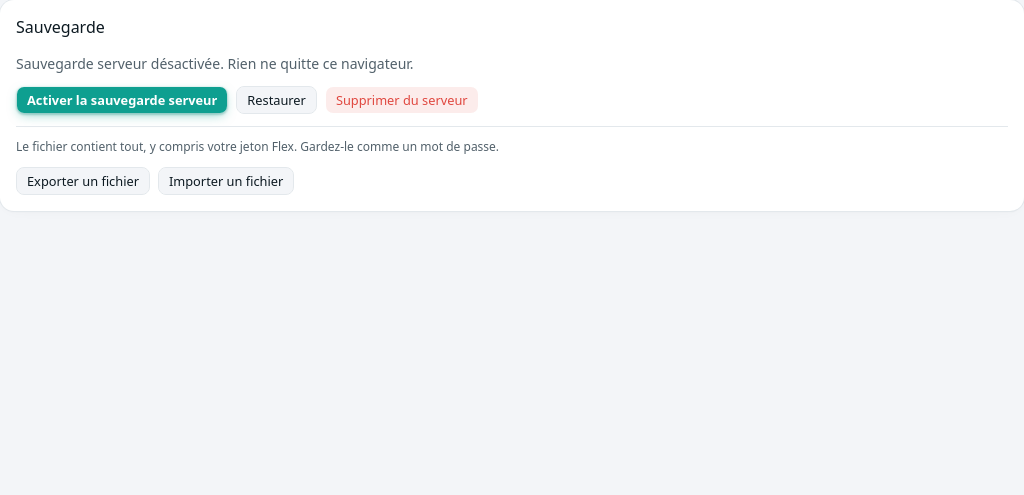
BackupCard › refuse une phrase de moins de douze caractères
The image size is (1024, 495).
Click the button "Activer la sauvegarde serveur".
click(122, 100)  # box [16,86,228,114]
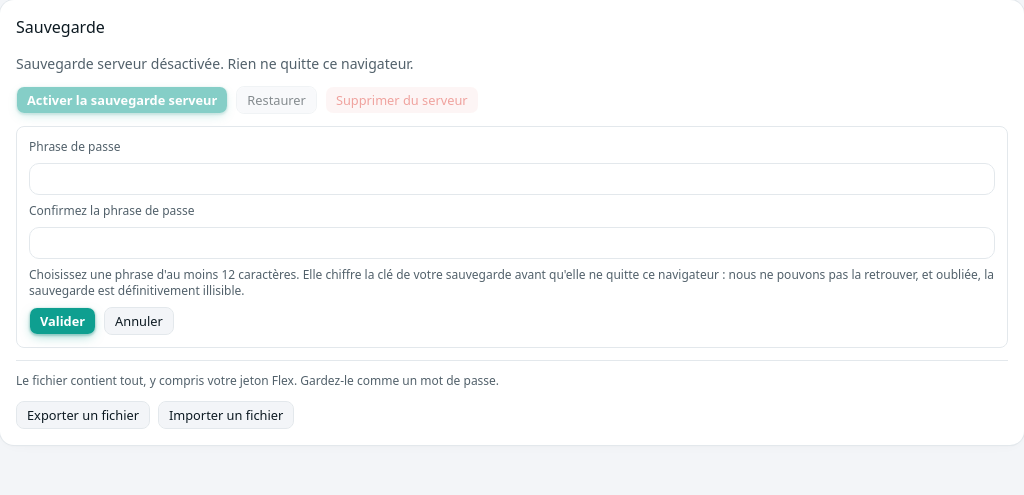
Type "court" into the password field labelled "Phrase de passe".
click(512, 179); type("court")  # box [29,163,995,195]
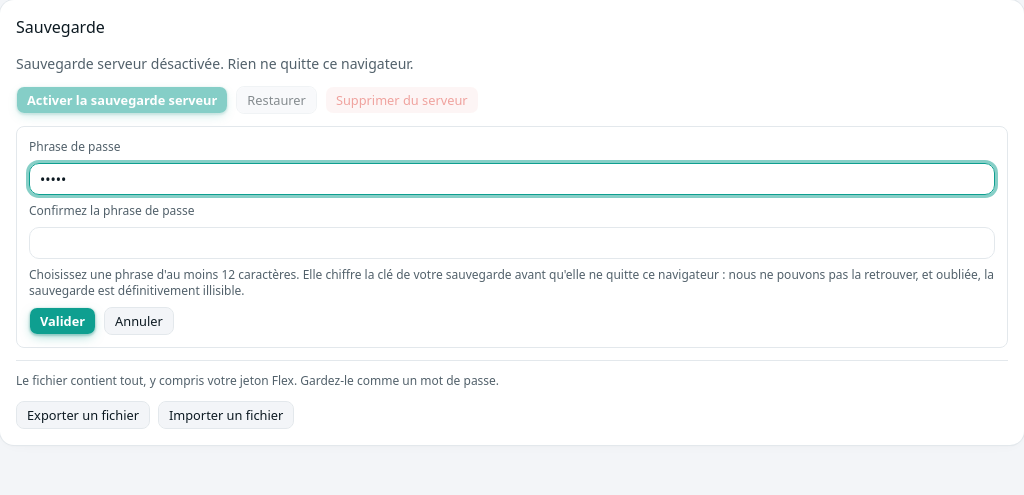
Type "court" into the password field labelled "Confirmez la phrase de passe".
click(512, 243); type("court")  # box [29,227,995,259]
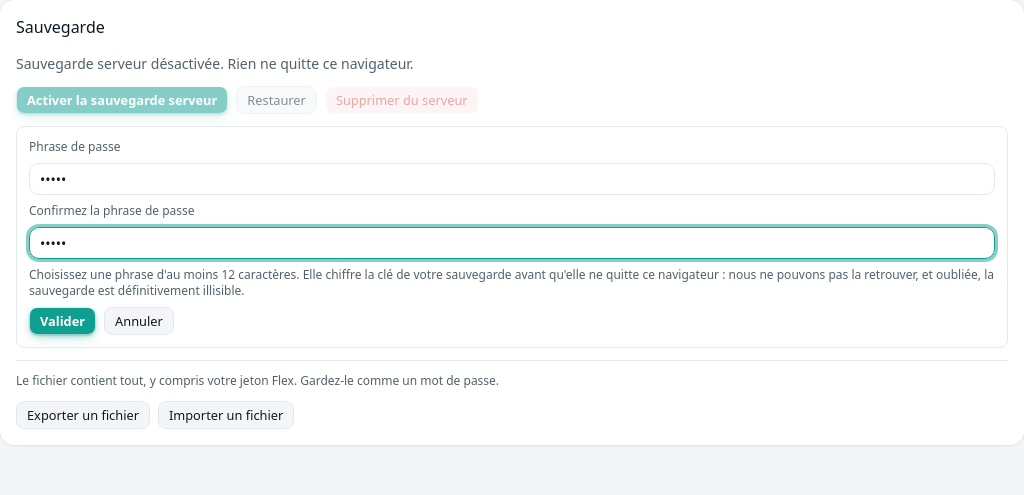
Click the button "Valider".
click(63, 321)  # box [29,307,96,335]
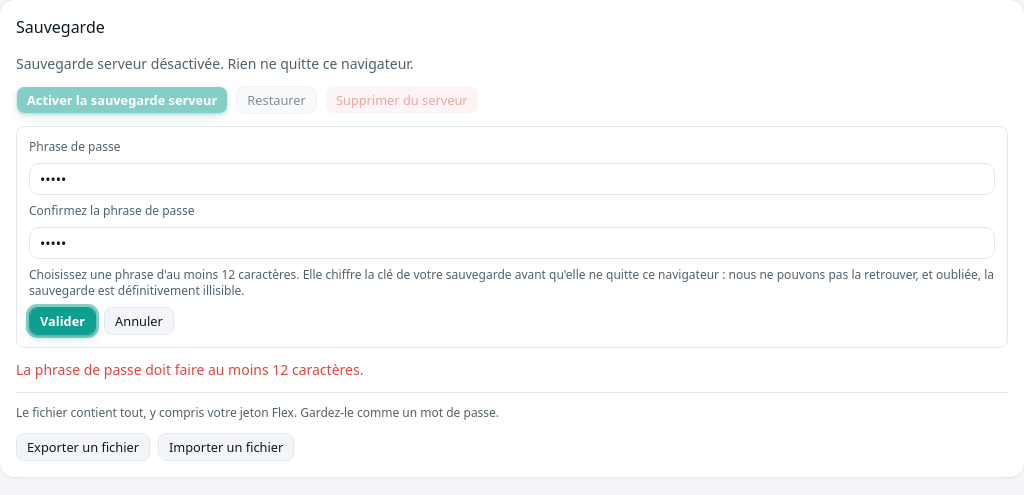
Expected: the message reads "La phrase de passe doit faire au moins 12 caractères.", [16,360,363,379]
